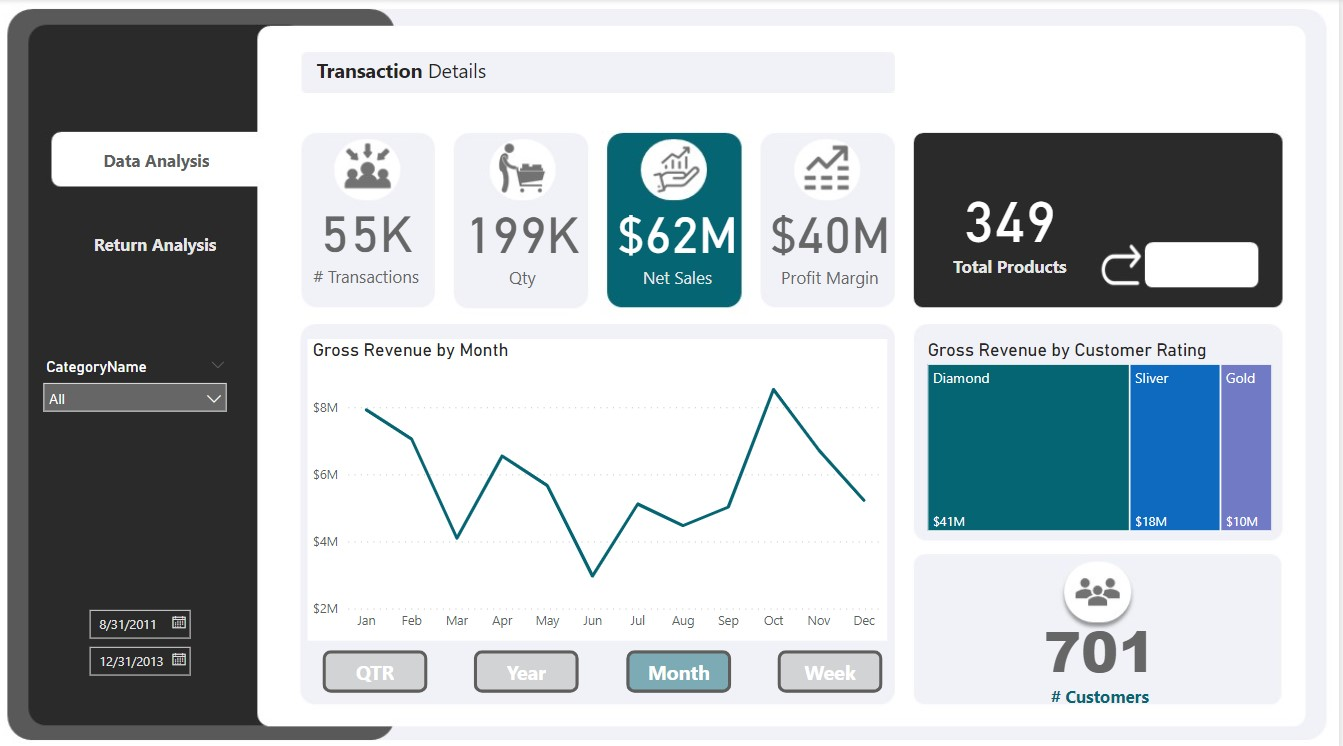

The page's visual inventory and layout, read from the dashboard file:
{"tool":"powerbi","page":{"name":"Net Sales","canvas":[1280,720],"ordinal":2},"visuals":[{"type":"card","fields":{"Values":["All Measures.# Transactions"]},"box":[285.6,160.7,135.7,136.9],"z":0},{"type":"actionButton","title":"InActive QTR","box":[311.8,620,100,40.5],"z":0,"group":"g2"},{"type":"actionButton","title":"InActive Year","box":[456.2,620,100,40.5],"z":0,"group":"g3"},{"type":"actionButton","title":"InActive Week","box":[745,620,100,40.5],"z":0,"group":"g1"},{"type":"card","fields":{"Values":["All Measures.Qty"]},"box":[434.4,161.9,135.7,136.9],"z":1000},{"type":"actionButton","title":"Active Month","box":[600.6,620,100,40.5],"z":1000,"group":"g4"},{"type":"card","fields":{"Values":["All Measures.Net Sales"]},"box":[582,161.9,135.7,136.9],"z":2000},{"type":"card","fields":{"Values":["All Measures.Gross Profit Margin"]},"box":[727.1,161.9,135.7,136.9],"z":3000},{"type":"card","fields":{"Values":["All Measures.# Products"]},"box":[898.5,160.7,135.7,110.7],"z":4000},{"type":"lineChart","fields":{"Category":["Calender.Month"],"Y":["All Measures.Gross Revenue"]},"box":[297.5,323.7,552.2,286.8],"z":5000},{"type":"group","id":"g1","title":"Week Btn Net Sales","box":[745,620,100,40.5],"z":9000},{"type":"group","id":"g2","title":"QTR Btn Net Sales","box":[311.8,620,100,40.5],"z":10000},{"type":"group","id":"g3","title":"Year Btn Net Sales","box":[456.2,620,100,40.5],"z":11000},{"type":"group","id":"g4","title":"Month Btn Net Sales","box":[600.6,620,100,40.5],"z":12000},{"type":"treemap","fields":{"Group":["LookUp_Customers.Customer Rating"],"Values":["All Measures.Gross Revenue"]},"box":[883,323.7,338,188],"z":13000},{"type":"card","fields":{"Values":["All Measures.# Customers"]},"box":[975.9,579.6,152.3,98.8],"z":14000},{"type":"textbox","box":[301.1,50,349.9,38.1],"z":15000},{"type":"actionButton","box":[55.9,128.5,195.2,48.8],"z":16000},{"type":"actionButton","box":[292.8,126.1,126.1,169],"z":18000},{"type":"actionButton","box":[54.7,208.3,195.2,48.8],"z":19000},{"type":"slicer","fields":{"Values":["LookUp_ProductCategory.CategoryName"]},"box":[35.7,336.8,195.2,60.7],"z":20000},{"type":"slicer","fields":{"Values":["Calender.Date"]},"box":[77.8,571.7,135.7,78.5],"z":21000}]}

Visuals, with their boxes on the page's 1280x720 design canvas (x1, y1, x2, y2). These are canvas units, not pixel positions in the 1343x746 screenshot, which may show the page scaled, cropped or inside an application window:
card - All Measures.# Transactions: {"left": 286, "top": 161, "right": 421, "bottom": 298}
"InActive QTR" actionButton: {"left": 312, "top": 620, "right": 412, "bottom": 660}
"InActive Year" actionButton: {"left": 456, "top": 620, "right": 556, "bottom": 660}
"InActive Week" actionButton: {"left": 745, "top": 620, "right": 845, "bottom": 660}
card - All Measures.Qty: {"left": 434, "top": 162, "right": 570, "bottom": 299}
"Active Month" actionButton: {"left": 601, "top": 620, "right": 701, "bottom": 660}
card - All Measures.Net Sales: {"left": 582, "top": 162, "right": 718, "bottom": 299}
card - All Measures.Gross Profit Margin: {"left": 727, "top": 162, "right": 863, "bottom": 299}
card - All Measures.# Products: {"left": 898, "top": 161, "right": 1034, "bottom": 271}
lineChart - Calender.Month x All Measures.Gross Revenue: {"left": 298, "top": 324, "right": 850, "bottom": 610}
"Week Btn Net Sales" group: {"left": 745, "top": 620, "right": 845, "bottom": 660}
"QTR Btn Net Sales" group: {"left": 312, "top": 620, "right": 412, "bottom": 660}
"Year Btn Net Sales" group: {"left": 456, "top": 620, "right": 556, "bottom": 660}
"Month Btn Net Sales" group: {"left": 601, "top": 620, "right": 701, "bottom": 660}
treemap - LookUp_Customers.Customer Rating x All Measures.Gross Revenue: {"left": 883, "top": 324, "right": 1221, "bottom": 512}
card - All Measures.# Customers: {"left": 976, "top": 580, "right": 1128, "bottom": 678}
textbox: {"left": 301, "top": 50, "right": 651, "bottom": 88}
actionButton: {"left": 56, "top": 128, "right": 251, "bottom": 177}
actionButton: {"left": 293, "top": 126, "right": 419, "bottom": 295}
actionButton: {"left": 55, "top": 208, "right": 250, "bottom": 257}
slicer - LookUp_ProductCategory.CategoryName: {"left": 36, "top": 337, "right": 231, "bottom": 398}
slicer - Calender.Date: {"left": 78, "top": 572, "right": 214, "bottom": 650}
